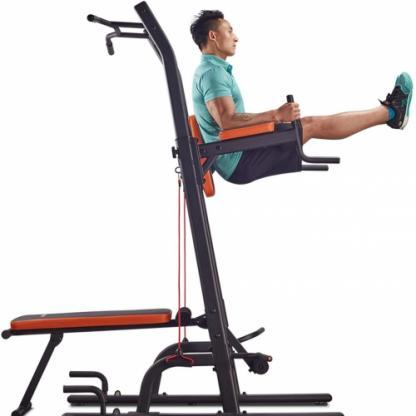chinning dipping: (89, 0, 343, 416)
